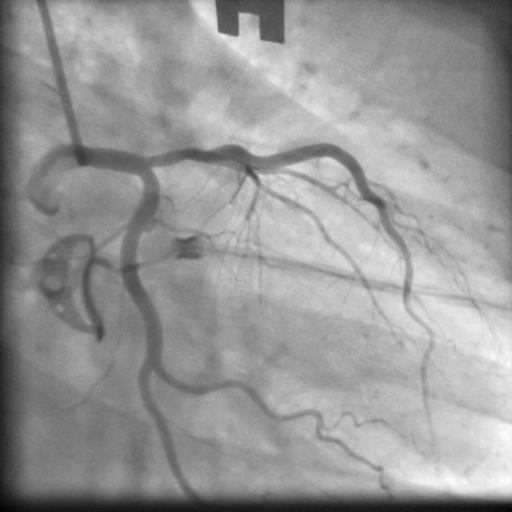Stenosis: (160, 144, 214, 166)
